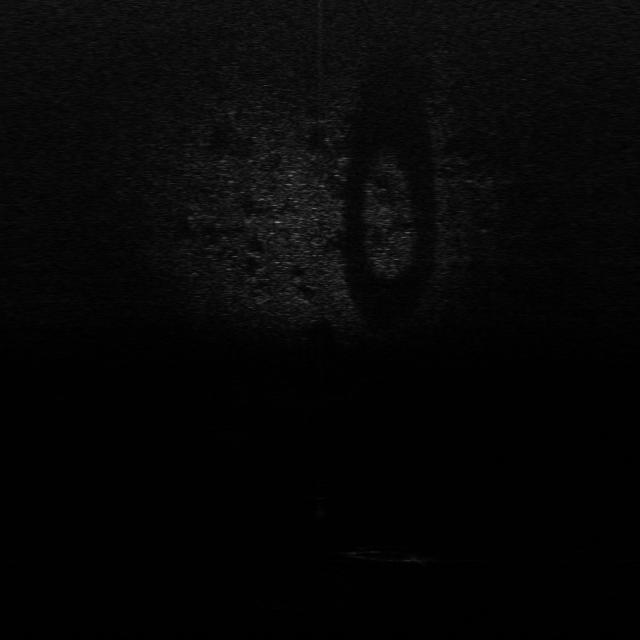ball: (308, 481, 336, 502)
tyre: (344, 540, 430, 568)
